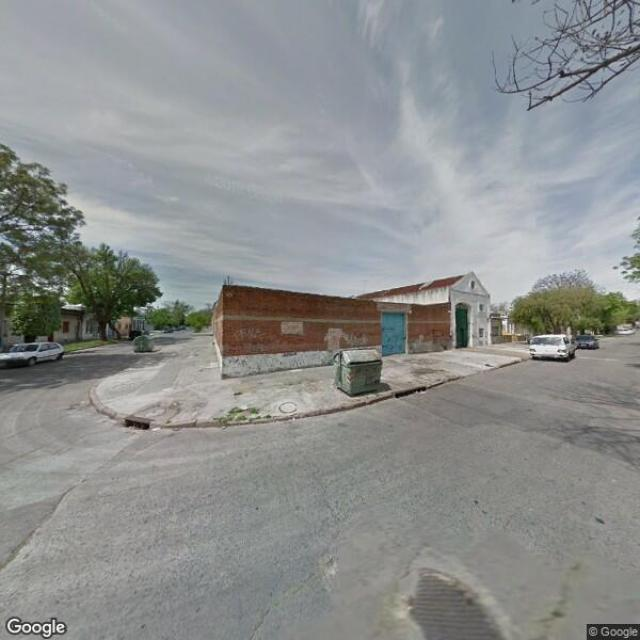garbage container: (327, 346, 397, 404)
